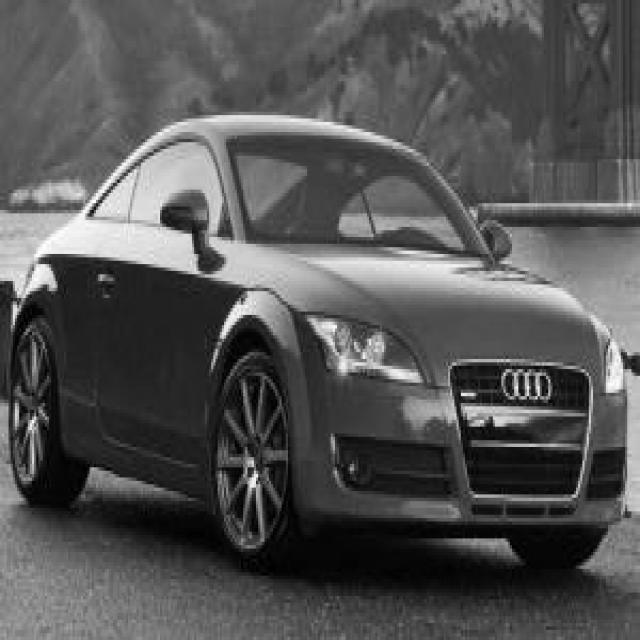car: (6, 108, 632, 572)
